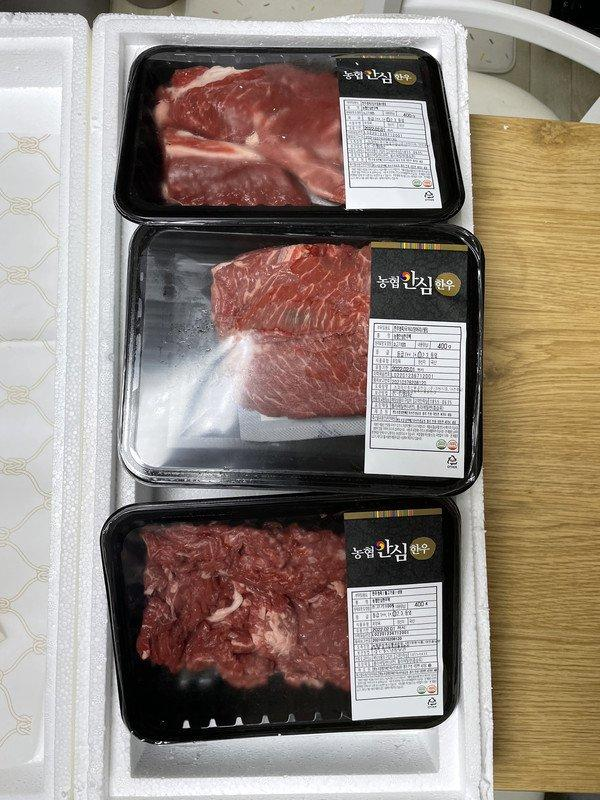beef: (127, 656, 327, 800)
